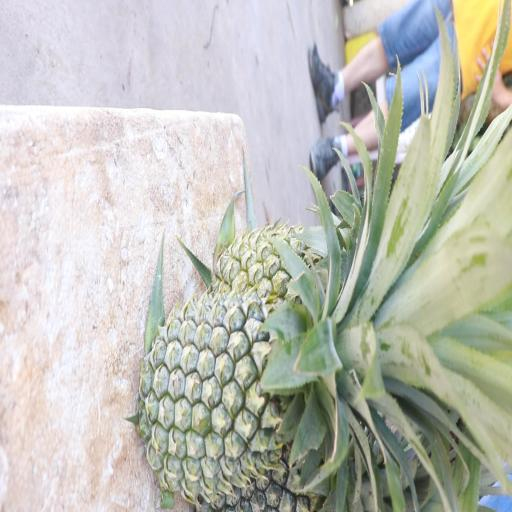Pineapple - v8 v1: (211, 212, 343, 310)
